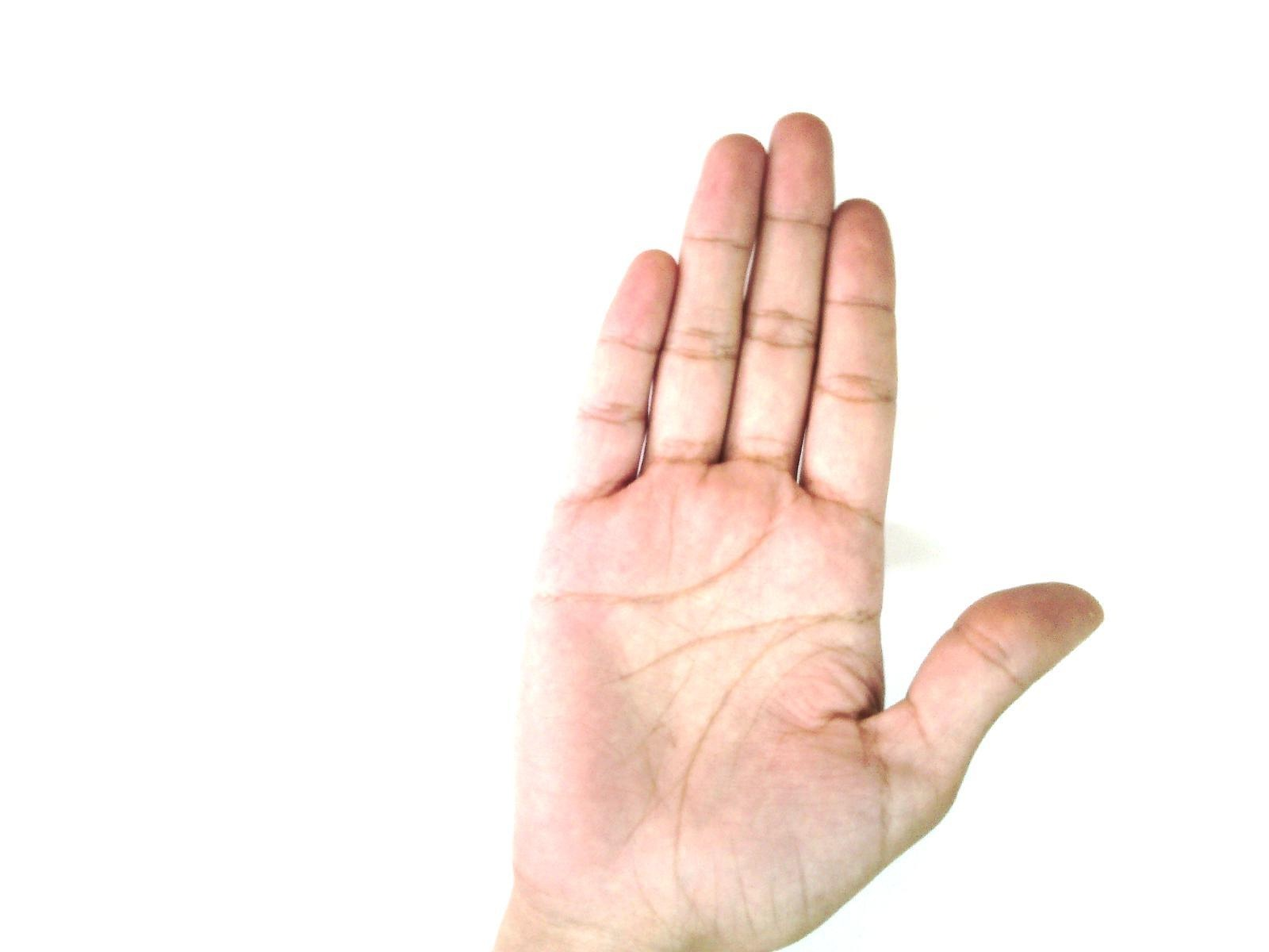open_palm: (489, 111, 1106, 951)
